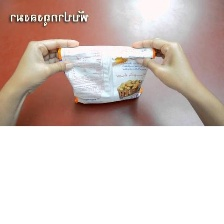snack: (53, 39, 161, 110)
